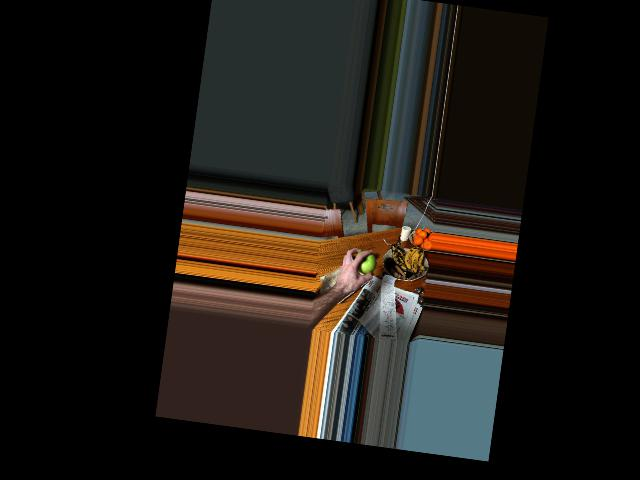apple: (355, 252, 376, 275)
